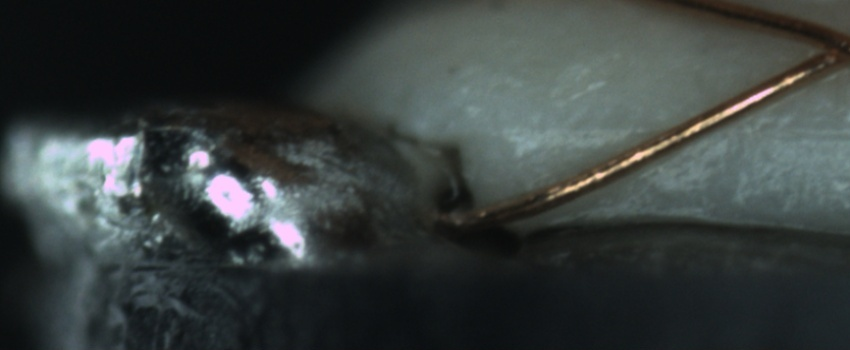CL: (797, 19, 850, 78)
DL: (524, 101, 850, 165)
